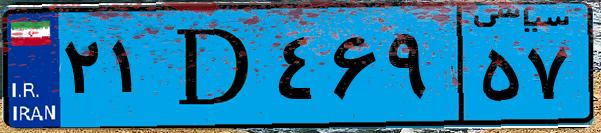1: (110, 28, 158, 98)
2: (57, 26, 110, 100)
4: (270, 28, 330, 110)
5: (475, 38, 525, 113)
6: (330, 28, 385, 110)
7: (525, 38, 570, 115)
9: (385, 28, 445, 110)
D: (158, 12, 270, 120)
